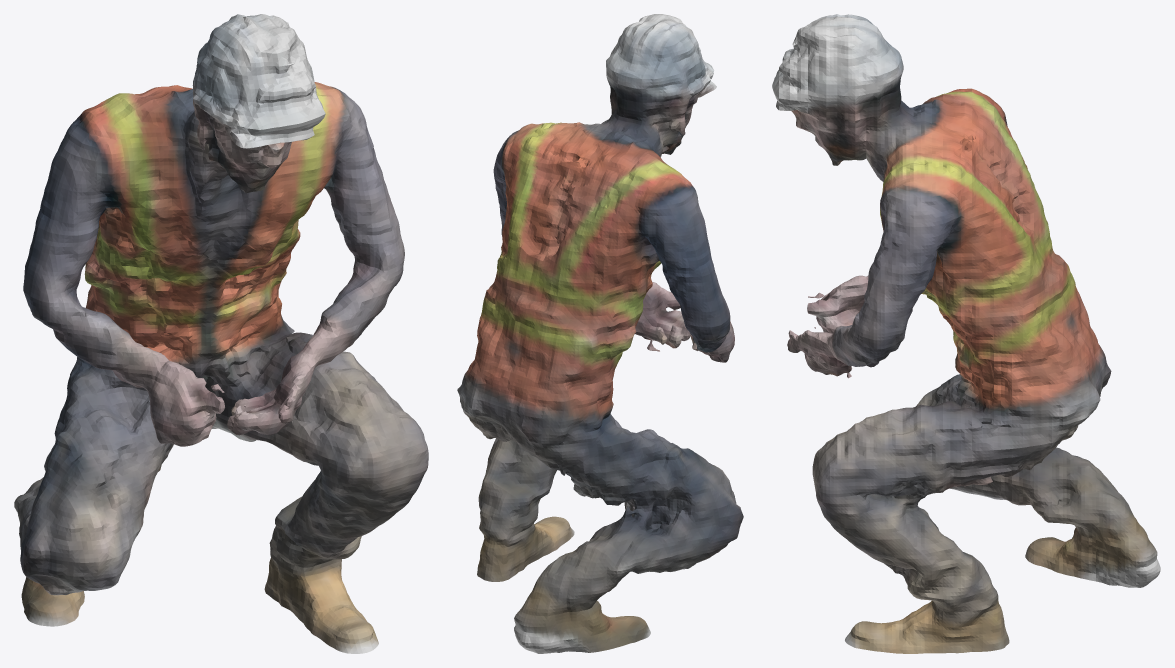
File: standup_4.glb
3 renders of one model, left to right at view 1: azimuth 30°, elevation 25°; view 2: azimuth 150°, elevation 25°; view 3: azimuth 270°, elevation 25°, orthographic. The views are drawn at different scales.
Parts seen in each view (by area): view 1: world; view 2: world; view 3: world.
Part boxes in pixels (x1=…): world: x1=14, y1=14, x2=428, y2=653; world: x1=457, y1=14, x2=743, y2=653; world: x1=772, y1=14, x2=1160, y2=653.
Size of the model in its own units: 0.7268 by 1.36 by 0.8372.
